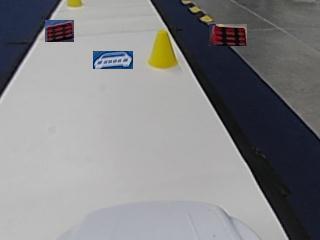cone: (148, 32, 178, 68)
